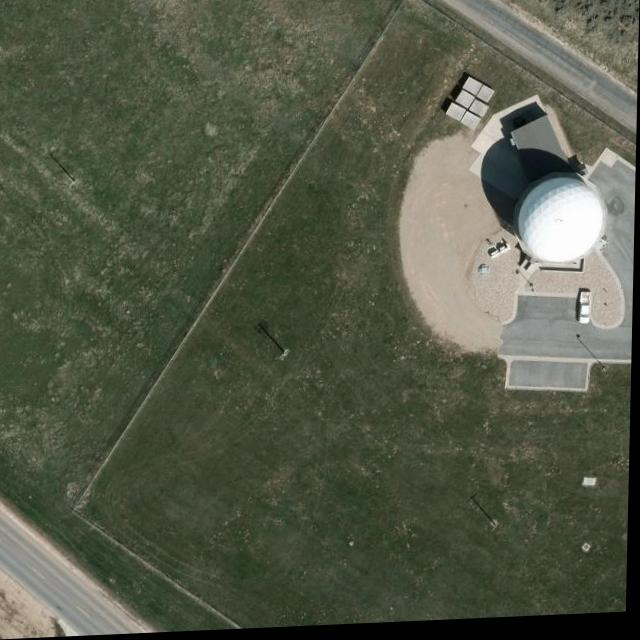vehicle: (580, 297, 595, 330)
